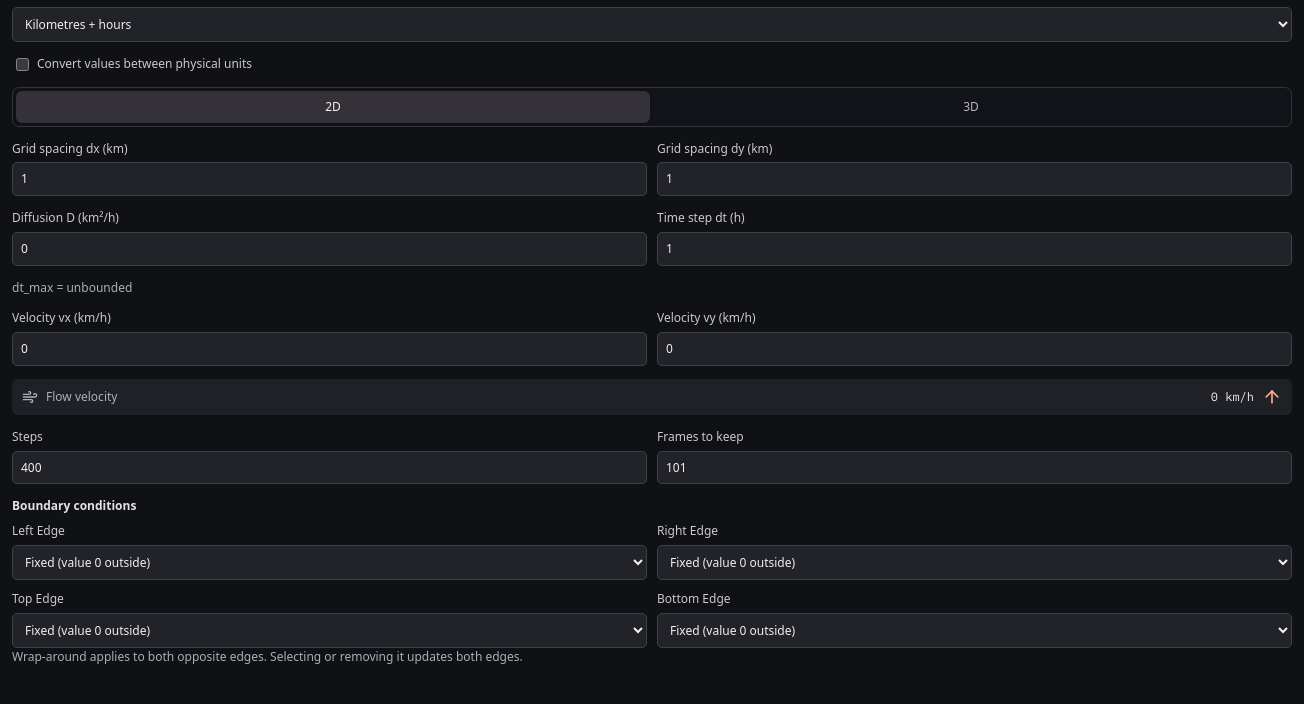
Test: pairs depth faces, clamps vertical flow and removes depth fields on returning to 2D
Click the button "3D" at (971, 107), box [654,91,1288,123]
(page scrolled)
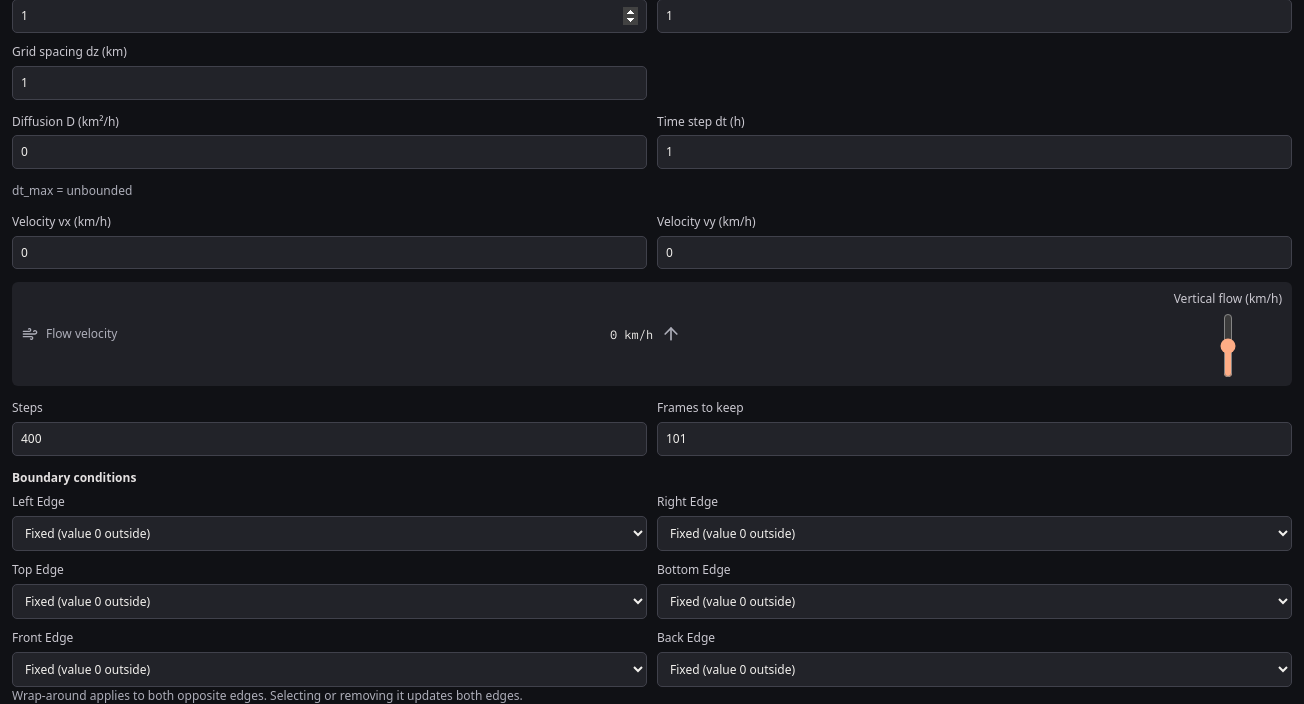
Select "Wrap-around" in the dropdown labelled "front edge" at (330, 669), box [12,652,647,686]
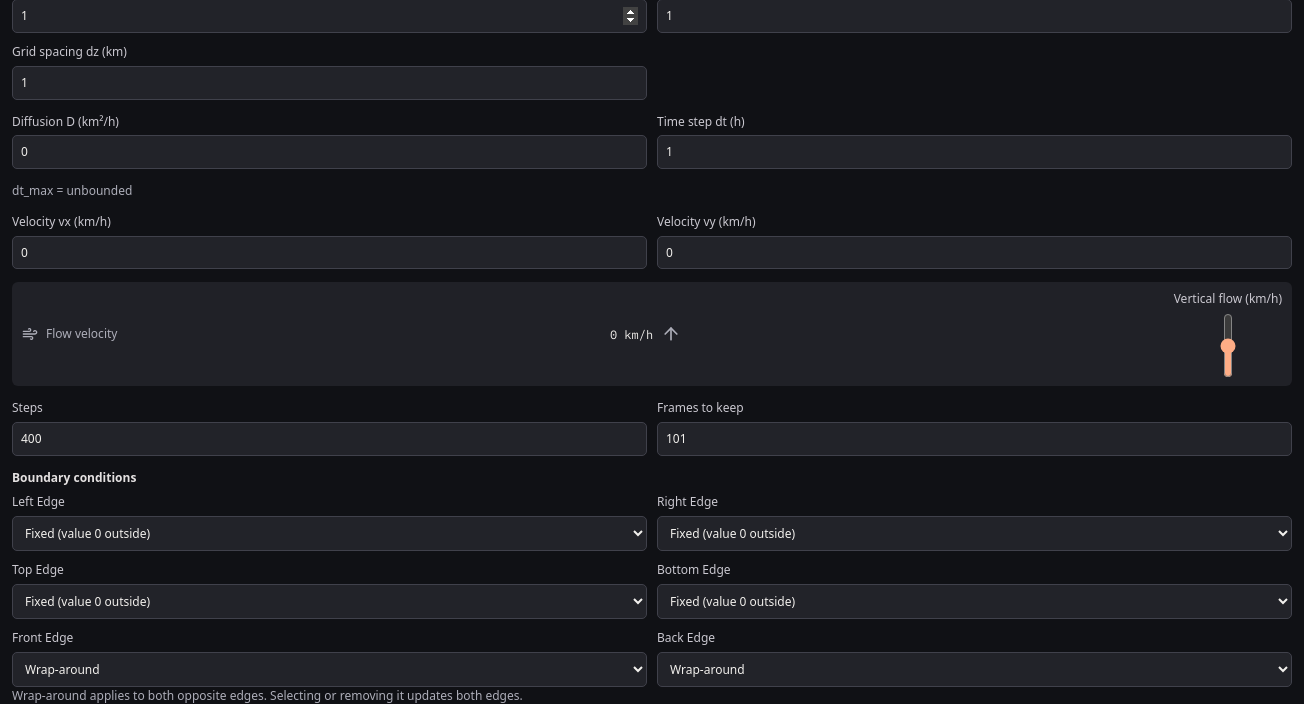
Now the dropdown labelled "back edge" shows "Wrap-around"
Select "Insulated (zero gradient)" in the dropdown labelled "back edge" at (974, 669), box [657,652,1292,686]
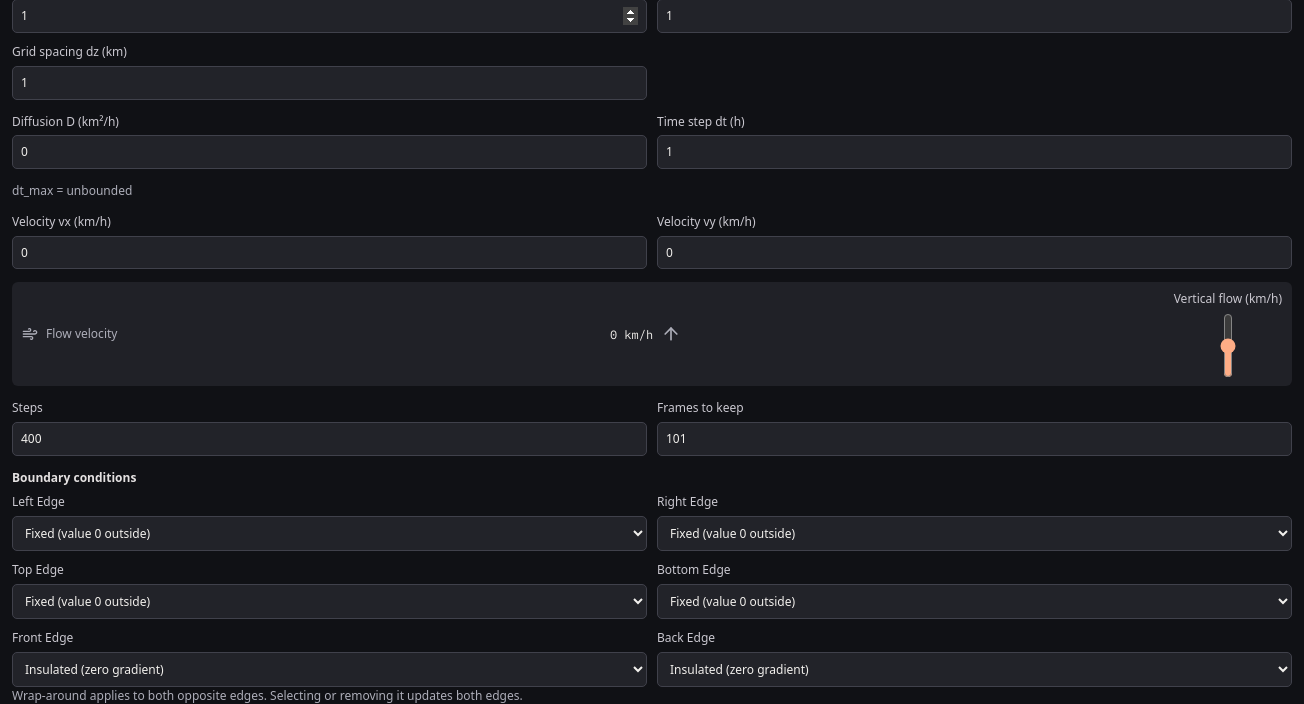
Set the slider labelled "Vertical flow" to "-2" at (1228, 346), box [1216,313,1240,378]
(page scrolled)
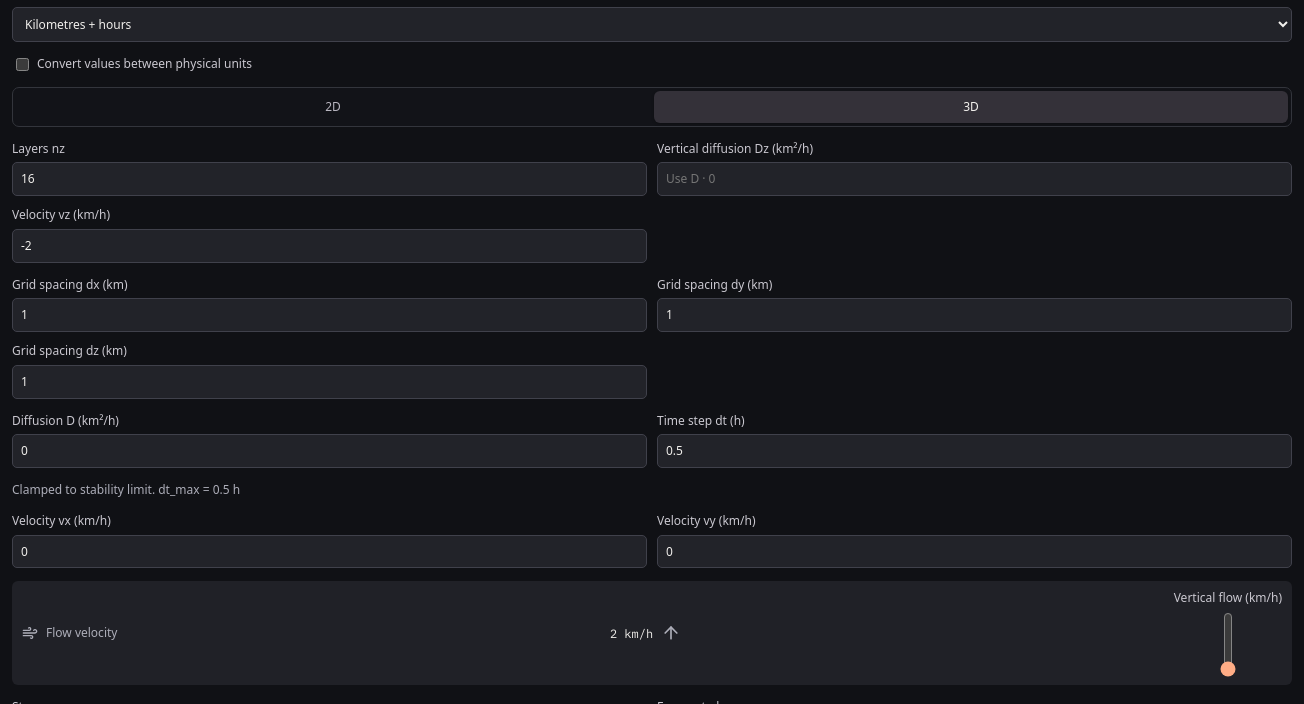
Now the number field labelled "Velocity vz (km/h)" holds "-2", box [12,229,647,263]
Type "2" into the number field labelled "Vertical diffusion Dz (km²/h)" at (974, 179), box [657,162,1292,196]
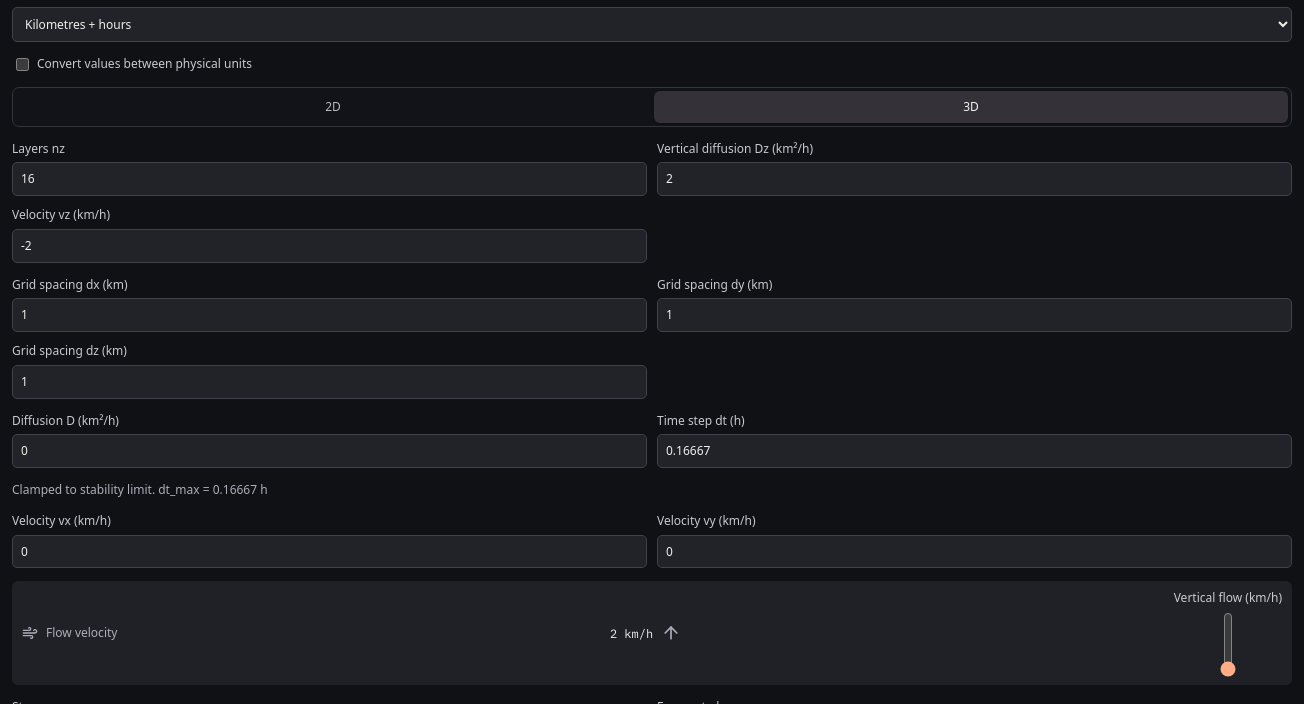
Click the button "2D" at (333, 107), box [16,91,650,123]
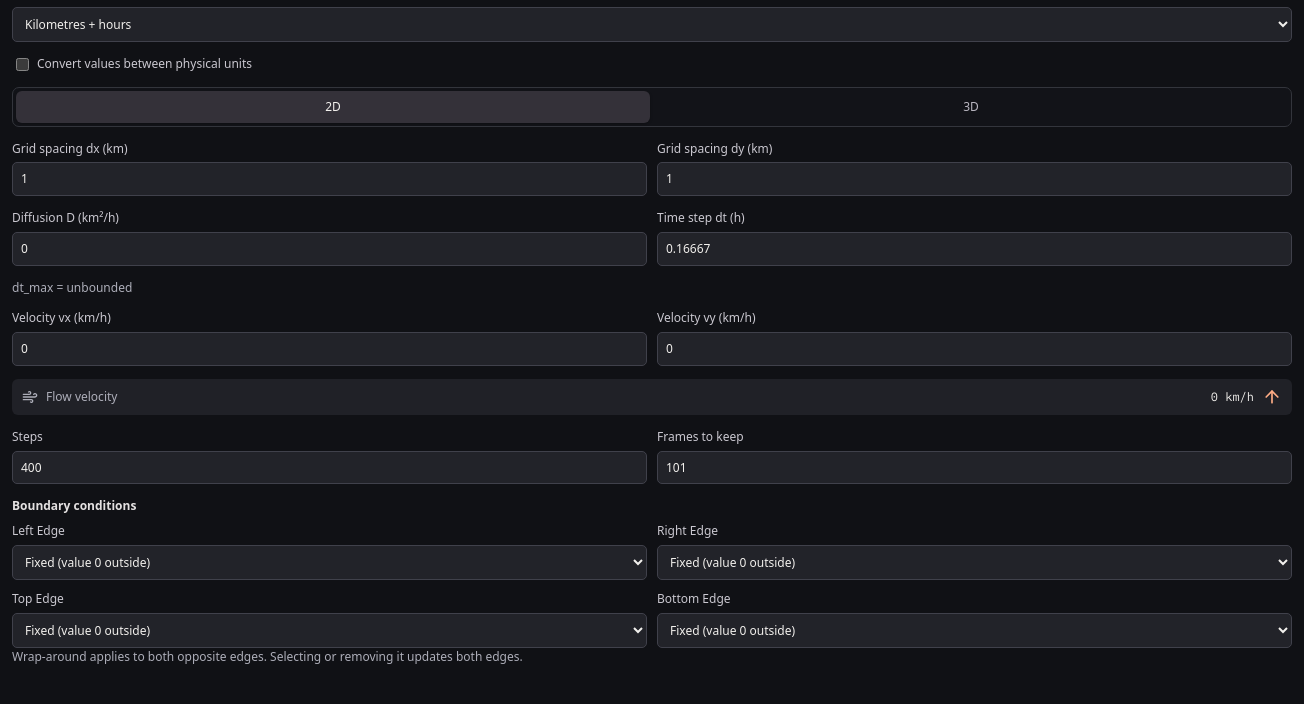
Now the label labelled "Layers nz" is gone
